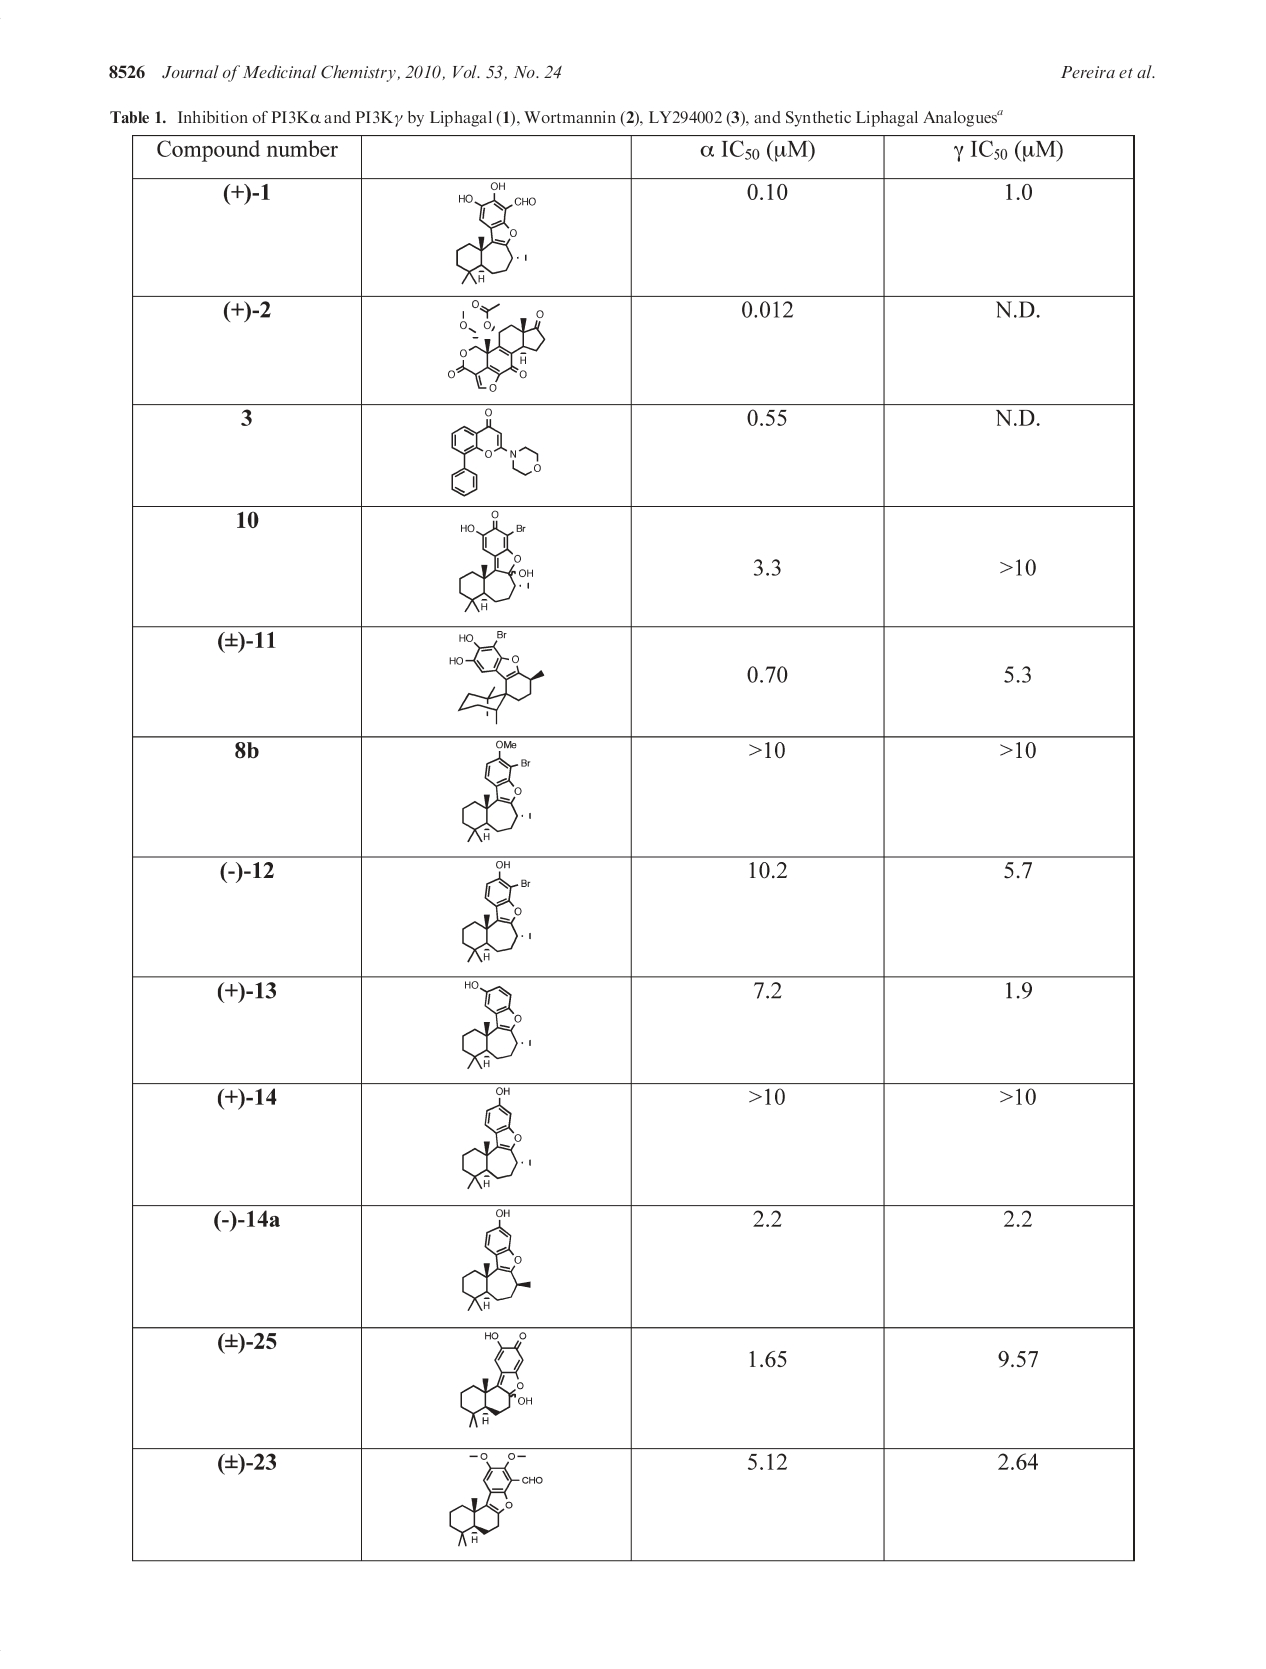exist_molecular: (447, 629, 547, 726), (445, 298, 547, 392), (447, 1451, 544, 1548), (453, 180, 539, 286), (449, 407, 543, 497), (457, 509, 535, 614), (457, 1330, 535, 1430), (461, 739, 535, 843), (461, 1087, 535, 1190), (461, 860, 533, 964), (460, 1208, 531, 1313), (460, 977, 535, 1072)
